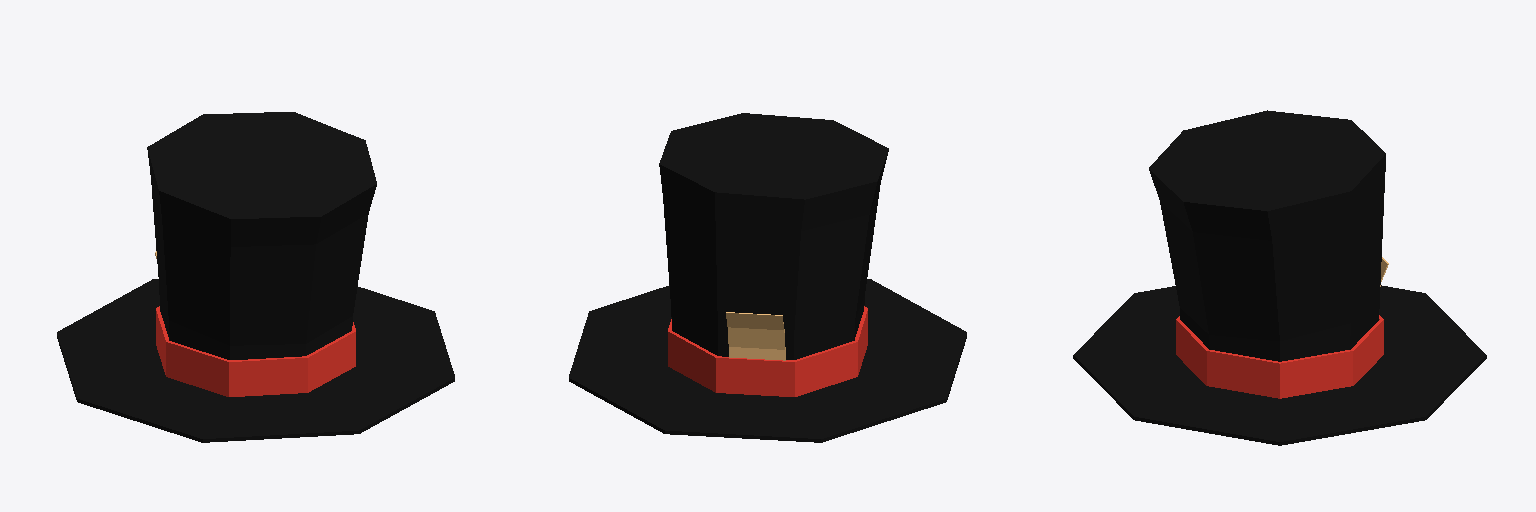
File: Top_hat_01.obj
3 renders of one model, left to right at view 1: azimuth 30°, elevation 25°; view 2: azimuth 150°, elevation 25°; view 3: azimuth 270°, elevation 25°, orthographic.
Visible parts, largest first — view 1: Top_hat_01_Circle.003; view 2: Top_hat_01_Circle.003; view 3: Top_hat_01_Circle.003.
Part boxes in pixels (bbox=[...]): Top_hat_01_Circle.003: bbox=[57, 112, 454, 442]; Top_hat_01_Circle.003: bbox=[569, 113, 966, 442]; Top_hat_01_Circle.003: bbox=[1073, 110, 1486, 445].
Size of the model in its own units: 18.6 by 10.2 by 18.6.